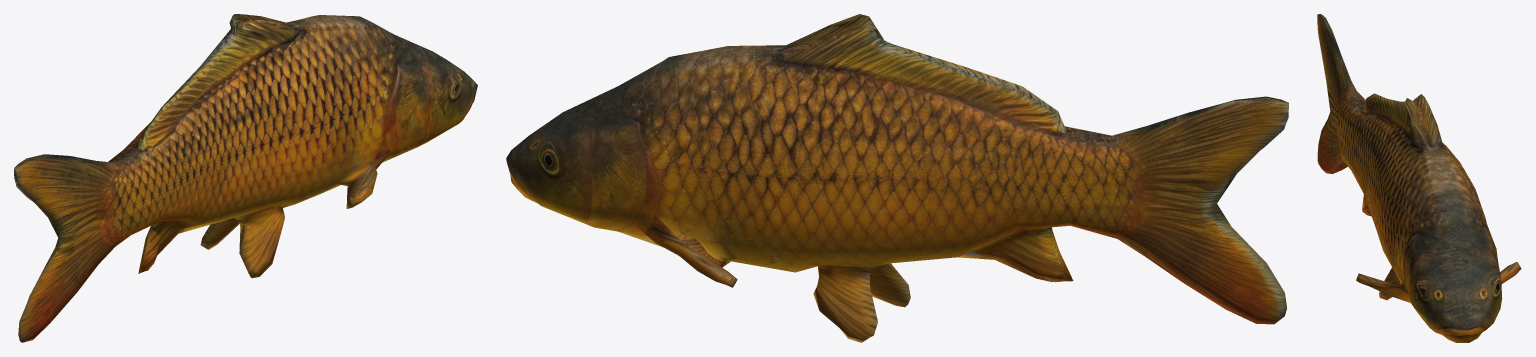
File: ingeo.glb
The picture shows the model from 3 angles, left to right: view 1: azimuth 30°, elevation 25°; view 2: azimuth 150°, elevation 25°; view 3: azimuth 270°, elevation 25°; orthographic projection. The views are drawn at different scales.
Parts seen in each view (by area): view 1: tripo_node_91017a51; view 2: tripo_node_91017a51; view 3: tripo_node_91017a51.
Boxes of the visible parts, x1=… form: tripo_node_91017a51: x1=14, y1=14, x2=477, y2=342; tripo_node_91017a51: x1=506, y1=14, x2=1288, y2=342; tripo_node_91017a51: x1=1317, y1=14, x2=1521, y2=342.
Bounding box in the file's own units: 97.45 × 41.67 × 37.98.
1 material, 1 textured.
